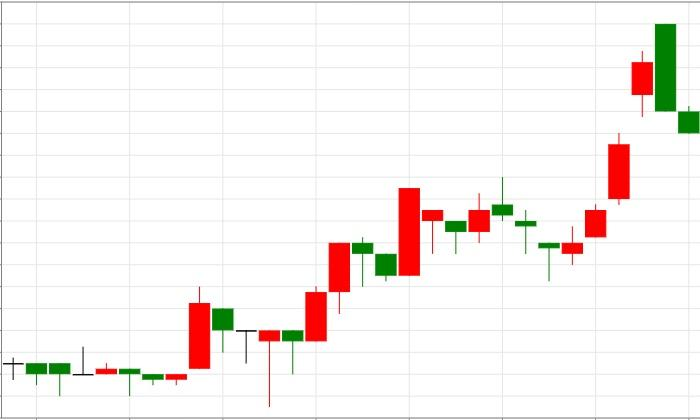three_white_soldiers_rise: (491, 132, 630, 281)
